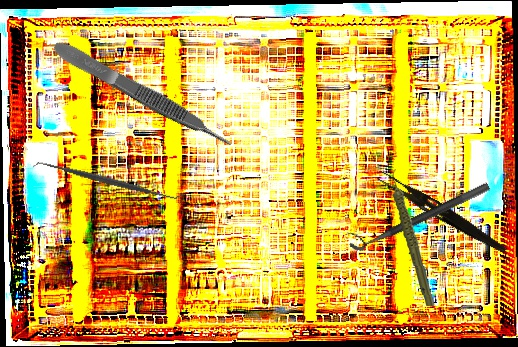Dressing Forceps: (373, 169, 511, 256)
Fixation Ring: (344, 170, 491, 255)
Handpiece: (390, 167, 436, 308)
Spatula Surgical: (32, 152, 185, 209)
Tissue Forceps: (50, 35, 236, 156)
